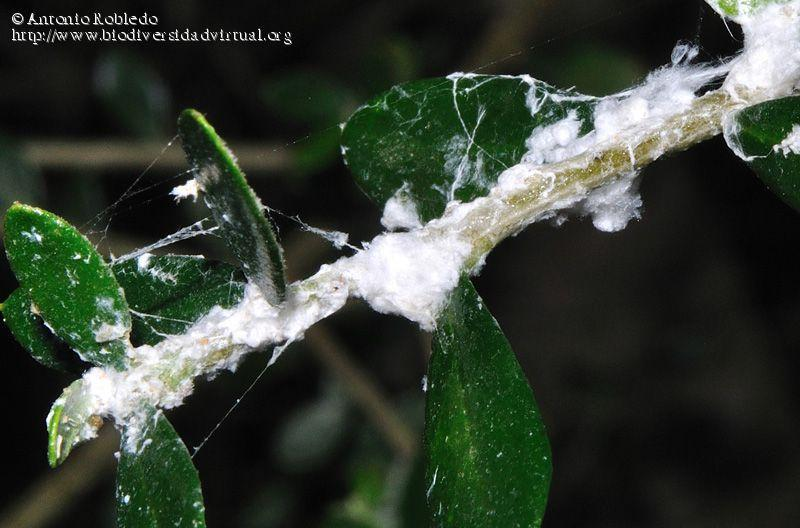Psyllid: (17, 298, 309, 448), (42, 120, 298, 276), (629, 4, 800, 160), (479, 97, 640, 233), (314, 228, 489, 335)
